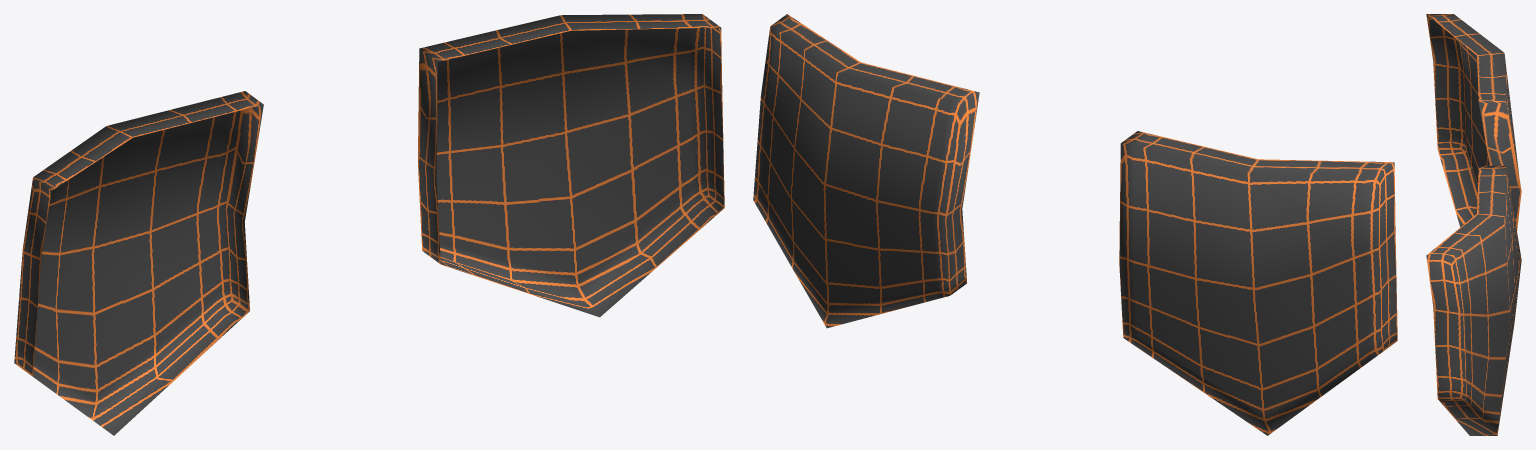
The model's file is BO_Sin1_polypoket_back.FBX.
3 views of the same model, side by side, from view 1: azimuth 30°, elevation 25°; view 2: azimuth 150°, elevation 25°; view 3: azimuth 270°, elevation 25° (orthographic). The views are drawn at different scales.
Visible parts, largest first — view 1: BO_Sin1_FrontPocket01; view 2: BO_Sin1_FrontPocket01; view 3: BO_Sin1_FrontPocket01.
Boxes of the visible parts, bbox=[...] form: BO_Sin1_FrontPocket01: bbox=[14, 14, 724, 435]; BO_Sin1_FrontPocket01: bbox=[753, 14, 1397, 435]; BO_Sin1_FrontPocket01: bbox=[1426, 14, 1521, 435].
Size of the model in its own units: 39.93 by 15.93 by 6.44.
